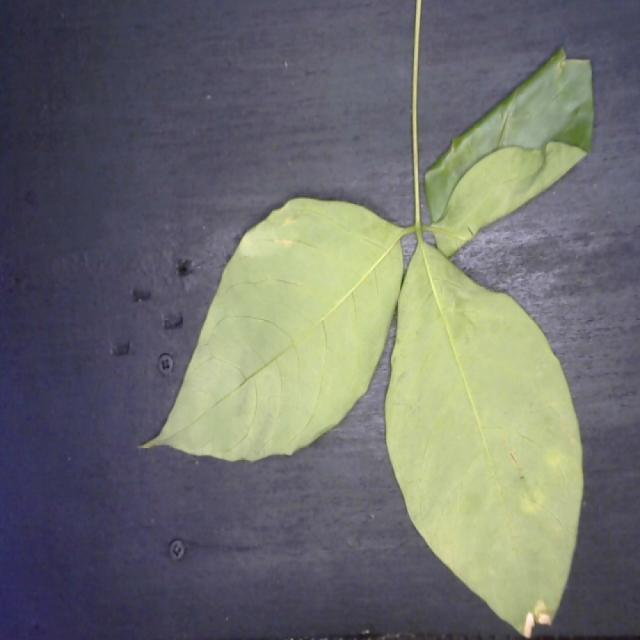biodegradable: (136, 37, 594, 640)
